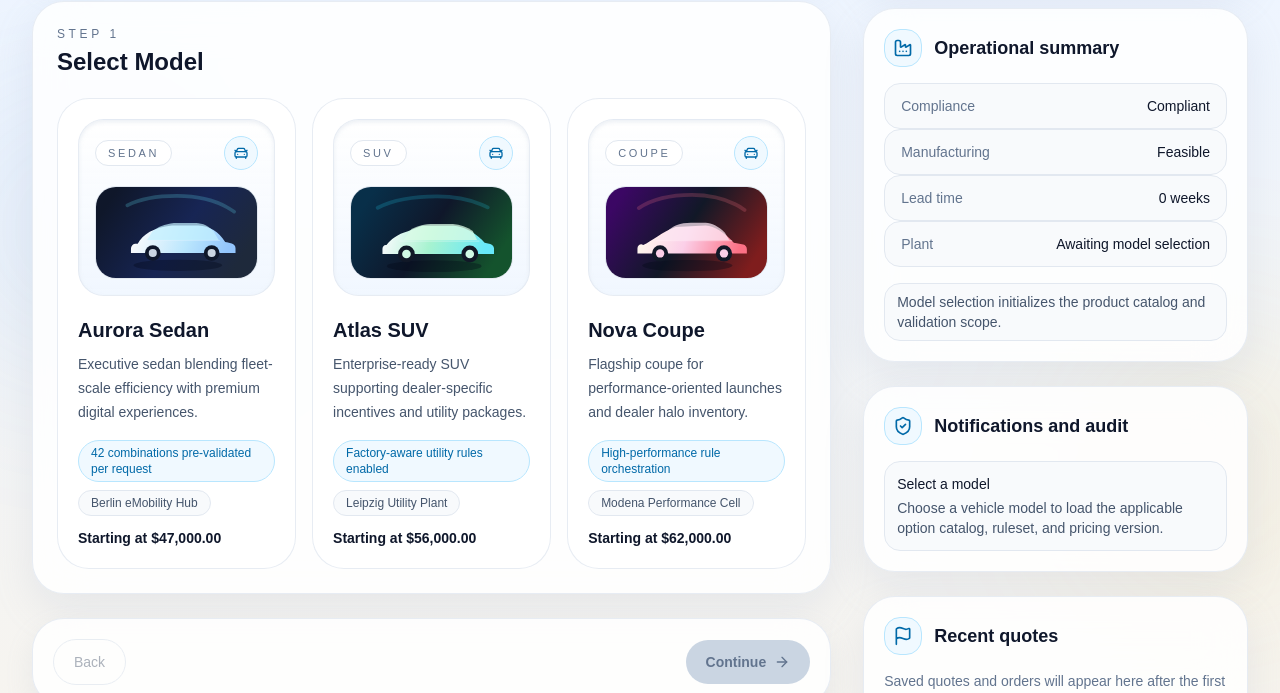
Scenario: ConfiguratorClient › renders the configurator and advances to engine selection after choosing a model
(page scrolled)
Expected: the picture named "Atlas SUV vehicle artwork" is shown, [351, 187, 512, 278]
Click the button "Atlas SUV" at (432, 333), box [312, 98, 551, 569]
(page scrolled)
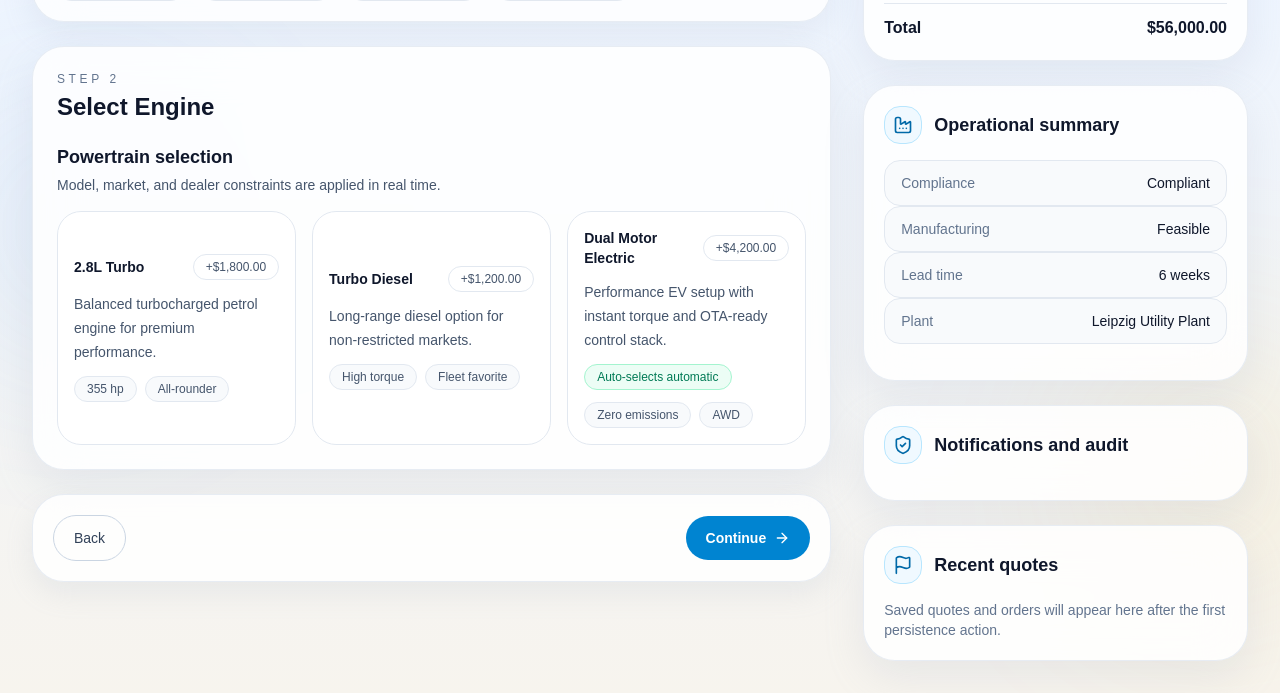
Expected: the heading "Powertrain selection" is shown, [57, 147, 233, 167]
Expected: the text "Dual Motor Electric" is shown, [584, 230, 657, 266]
